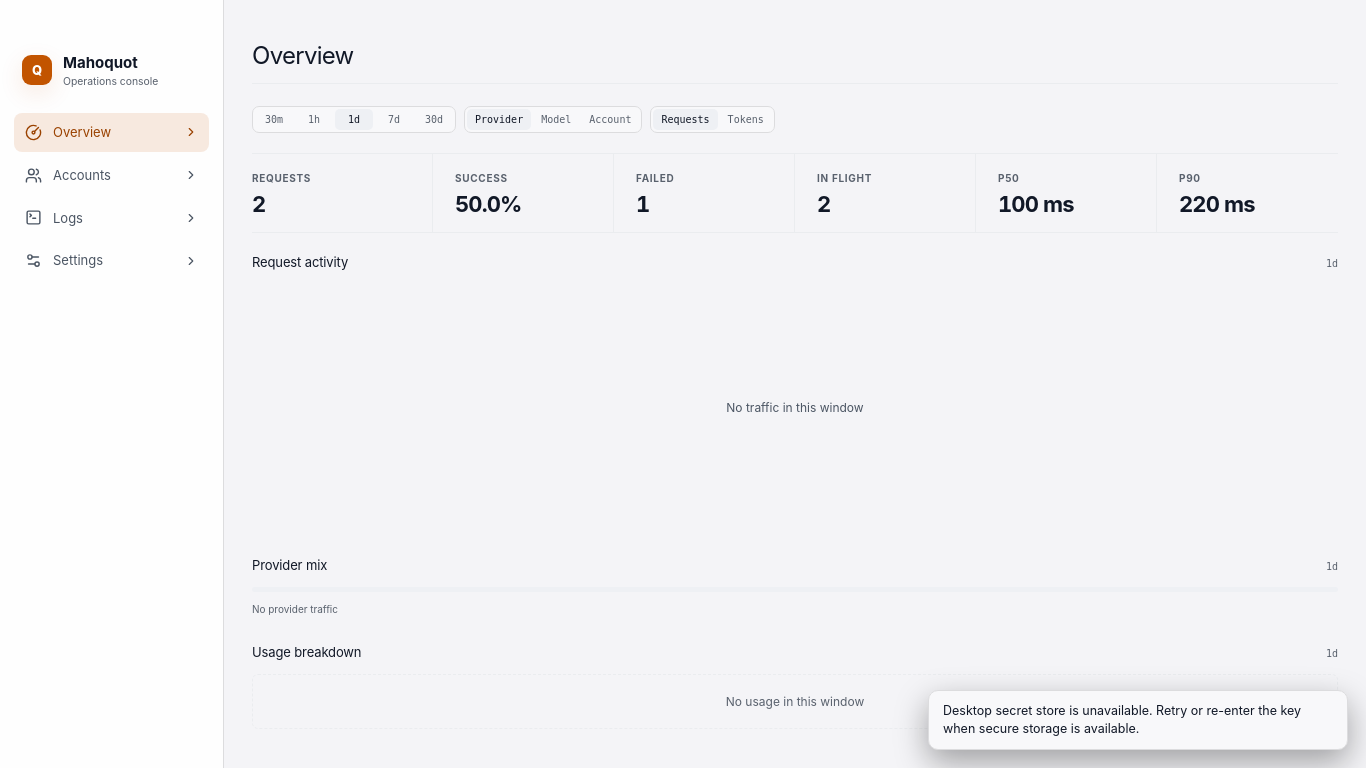
Scenario: Logs and Settings characterization pin › Logs surface behavior › renders parsed request records with KPI and proxy events
Click the button "Logs".
click(112, 218)  # box [14,198,209,237]
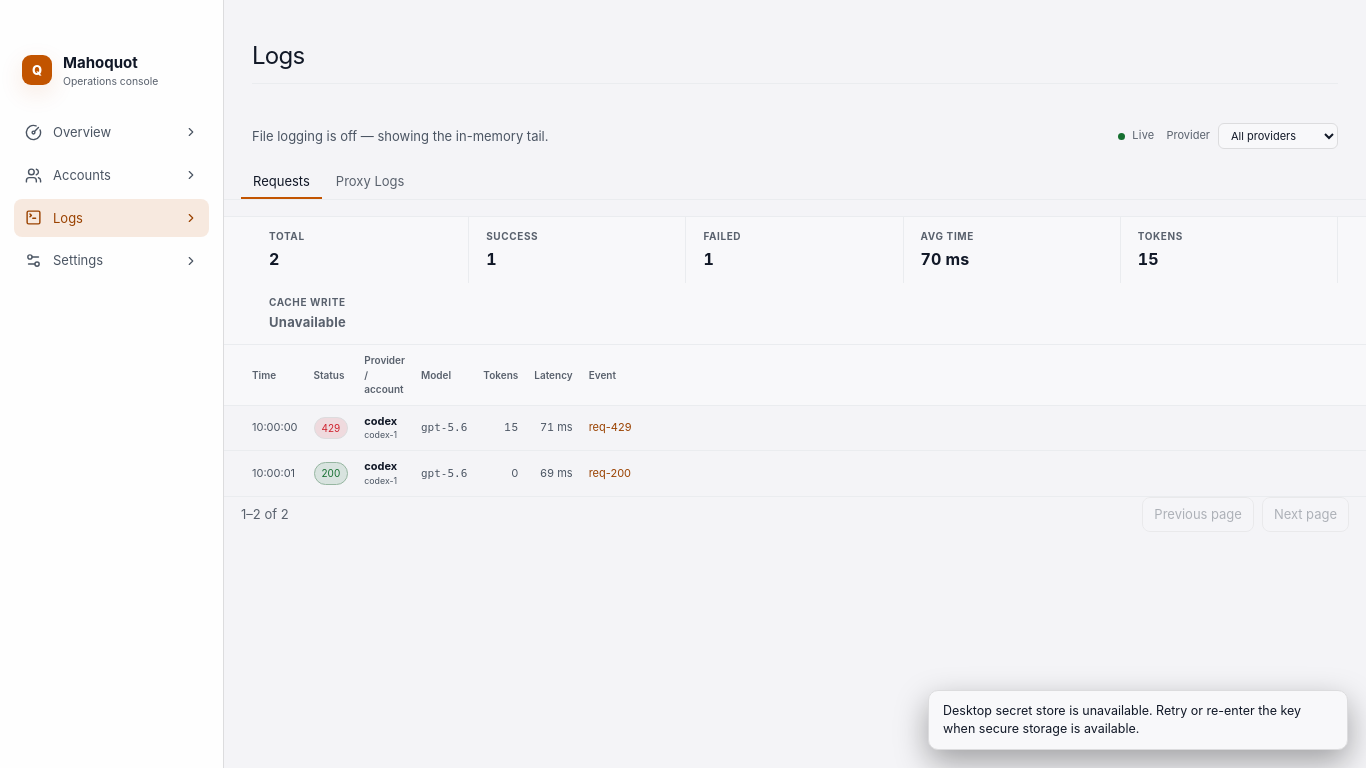
Expected: the heading "Logs" is shown, [252,39,304,74]
Expected: the text "File logging is off — showing the in-memory tail." is shown, [252,128,548,144]
Expected: the text "gpt-5.6" is shown 2 times, [413,405,475,451]; [413,451,475,496]
Click the tab "Proxy Logs".
click(370, 182)  # box [324,165,416,199]
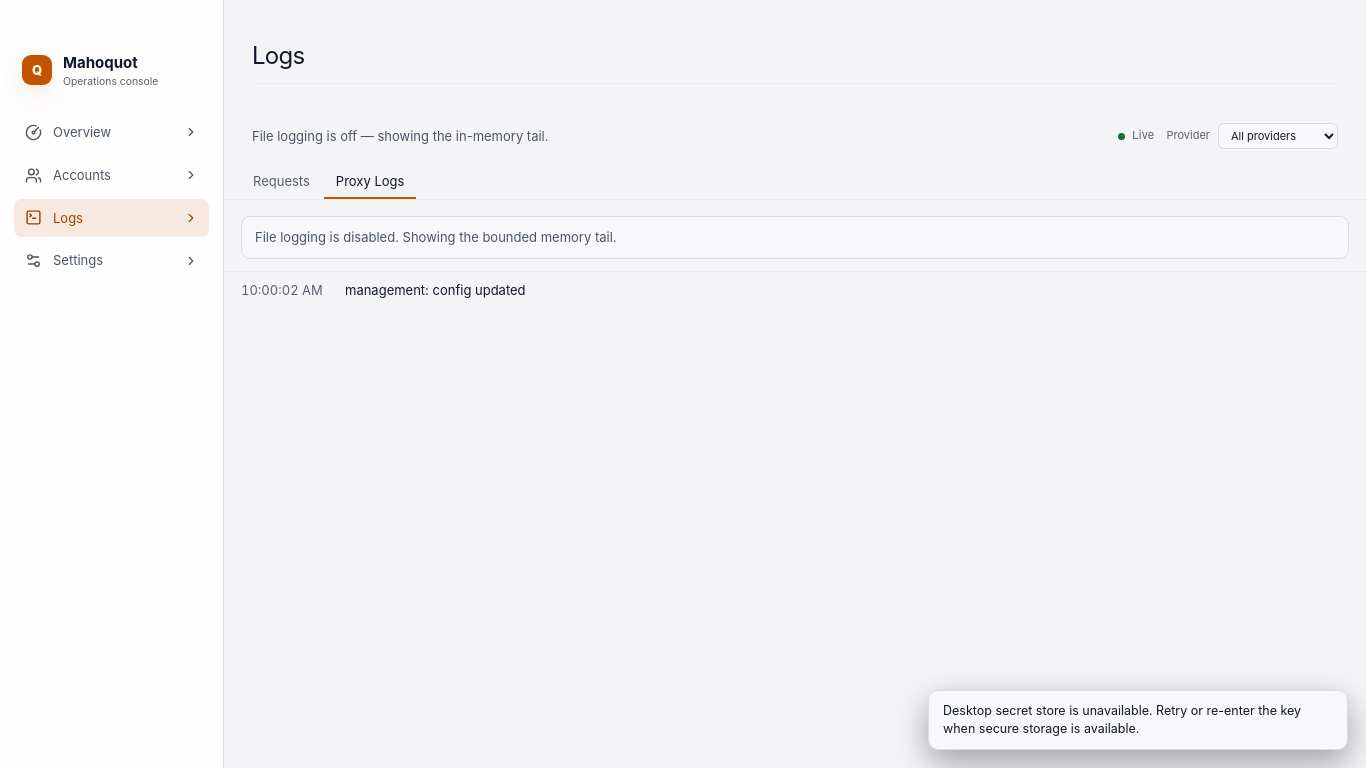
Expected: the text "management: config updated" is shown, [345,281,543,300]
Expected: the text "gpt-5.6" is gone
